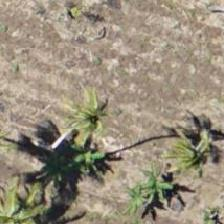coconut_tree: (40, 67, 130, 157), (147, 107, 223, 197), (0, 169, 53, 223)
